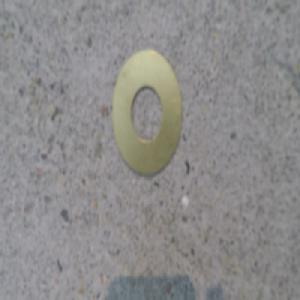Washer: (109, 49, 184, 181)
